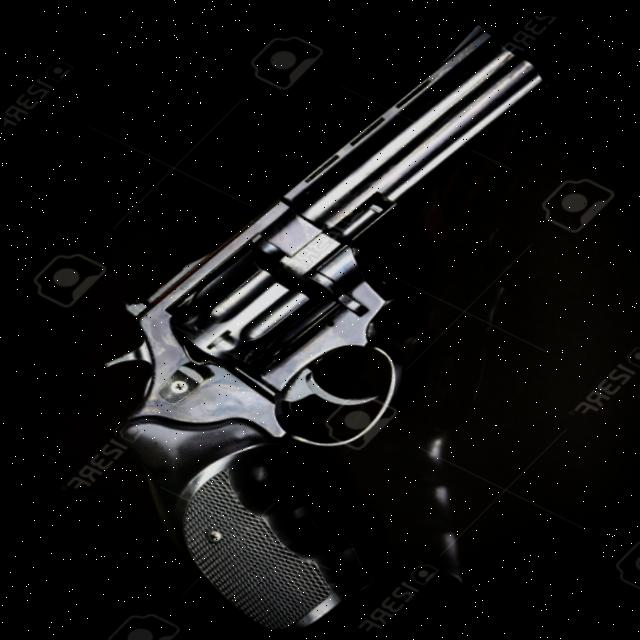pistol: (31, 1, 640, 640)
